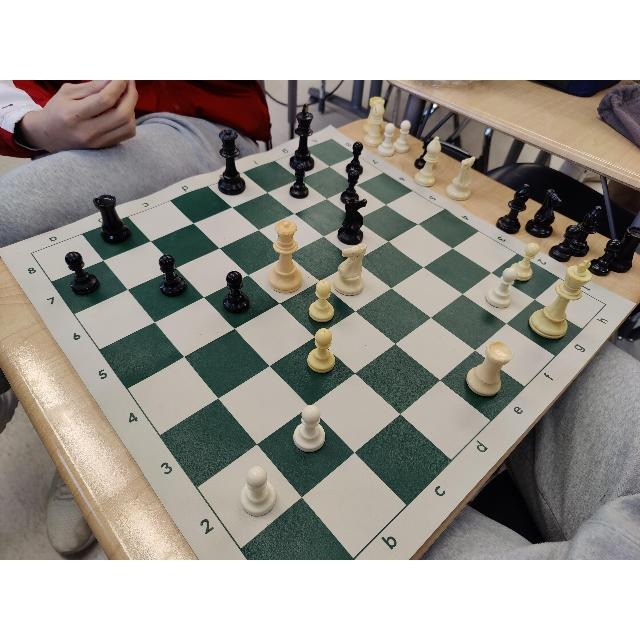black-king: (290, 103, 316, 172)
black-knight: (338, 196, 368, 245)
black-pawn: (65, 250, 101, 298), (221, 269, 251, 315), (156, 254, 187, 298), (340, 169, 360, 205), (290, 164, 310, 198), (344, 141, 364, 175)
black-queen: (218, 129, 246, 194)
black-rook: (92, 194, 131, 244)
white-king: (529, 259, 593, 341)
white-knight: (333, 245, 365, 297)
white-pawn: (240, 466, 278, 516), (294, 403, 326, 452), (306, 327, 336, 372), (486, 268, 517, 308), (309, 280, 335, 324), (511, 242, 539, 281)
white-queen: (268, 219, 304, 294)
white-rook: (465, 341, 513, 397)
